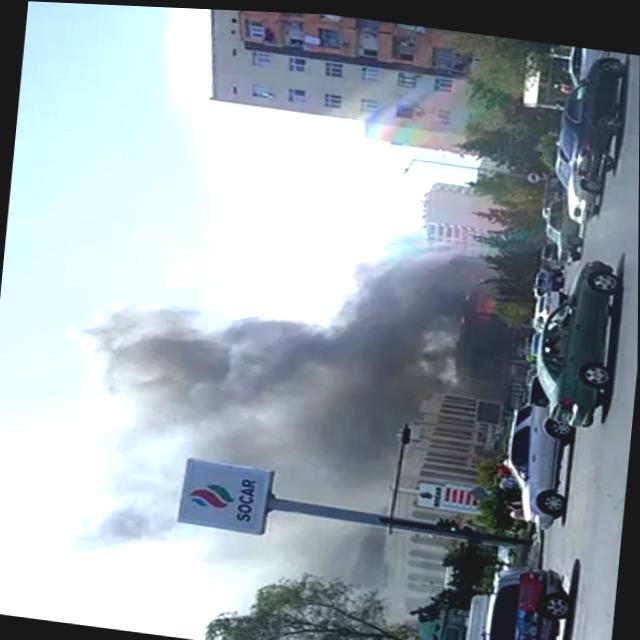Smoke: (75, 193, 491, 437)
